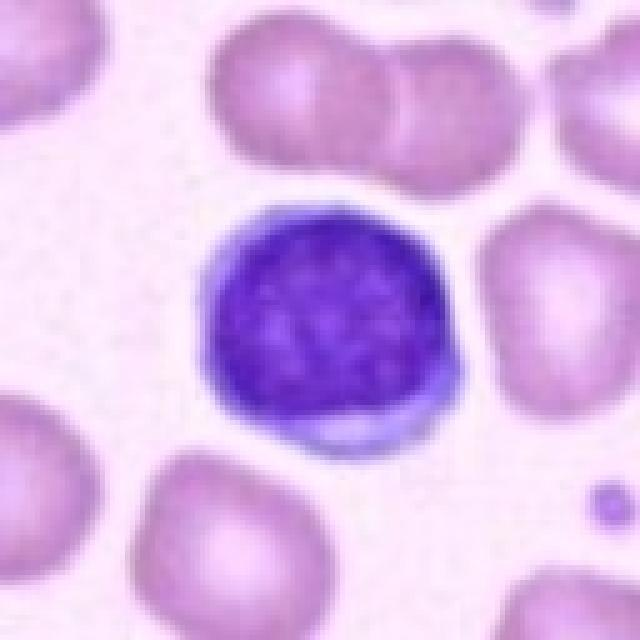lympho: (191, 200, 473, 460)
